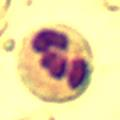neutrophil: (18, 23, 96, 102)
